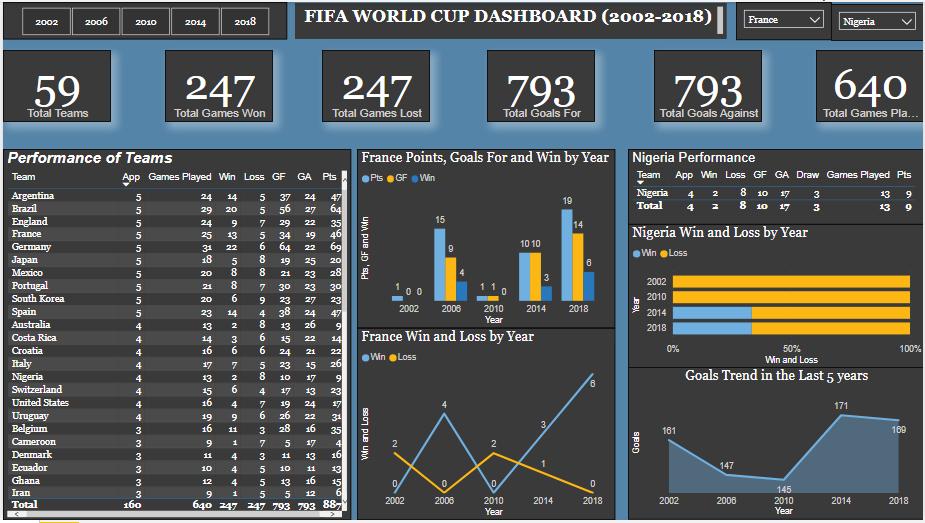

This screenshot's page, from the dashboard's own definition file:
{"tool":"powerbi","page":{"name":"Page 1","canvas":[1280,720],"ordinal":0},"visuals":[{"type":"card","fields":{"Values":["Calculations.NO OF TEAMS"]},"box":[0,66.1,150,100.5],"z":0},{"type":"card","fields":{"Values":["Calculations.TOTAL GAMES PLAYED"]},"box":[1130,66.1,150,100.5],"z":1000},{"type":"card","fields":{"Values":["Calculations.TOTAL GAMES WON"]},"box":[225.7,66.1,150,100.5],"z":2000},{"type":"card","fields":{"Values":["Calculations.TOTAL GOALS AGAINST"]},"box":[904.3,66.1,150,100.5],"z":3000},{"type":"card","fields":{"Values":["Calculations.TOTAL GAMES LOST"]},"box":[443.2,66.1,150,100.5],"z":4000},{"type":"card","fields":{"Values":["Calculations.TOTAL GAMES GOALS FOR"]},"box":[673,66.1,150,100.5],"z":5000},{"type":"slicer","fields":{"Values":["FIFA-5YRS.Date"]},"box":[0,0,395,52.3],"z":6000},{"type":"tableEx","title":"Performance of Teams","fields":{"Values":["FIFA-5YRS.Team","Calculations.Apperance","Sum(FIFA-5YRS.Games Played)","Sum(FIFA-5YRS.Win)","Sum(FIFA-5YRS.Loss)","Sum(FIFA-5YRS.Goals For)","Sum(FIFA-5YRS.Goals Against)","Sum(FIFA-5YRS.Points)"]},"box":[0,203.6,483.5,516.4],"z":7000},{"type":"areaChart","title":"Goals Trend in the Last 5 years","fields":{"Category":["FIFA-5YRS.Year"],"Y":["Sum(FIFA-5YRS.Goals For)"]},"box":[868.5,507.9,411.5,212],"z":8000},{"type":"clusteredColumnChart","title":"France Points, Goals For and Win by Year","fields":{"Y":["Sum(FIFA-5YRS.Points)","Sum(FIFA-5YRS.Goals For)","Sum(FIFA-5YRS.Win)"],"Category":["FIFA-5YRS.Year"]},"box":[492.7,203.7,359.2,249.1],"z":9000},{"type":"slicer","fields":{"Values":["FIFA-5YRS.Team"]},"box":[1018.2,0,132.7,52.6],"z":10000},{"type":"lineChart","title":"France Win and Loss by Year","fields":{"Category":["FIFA-5YRS.Year"],"Y":["Sum(FIFA-5YRS.Win)","Sum(FIFA-5YRS.Loss)"]},"box":[492.7,452.8,359.2,267],"z":11000},{"type":"tableEx","title":"Nigeria Performance","fields":{"Values":["FIFA-5YRS.Team","Calculations.App","Sum(FIFA-5YRS.Win)","Sum(FIFA-5YRS.Loss)","Sum(FIFA-5YRS.GF)","Sum(FIFA-5YRS.GA)","Sum(FIFA-5YRS.Draw)","Sum(FIFA-5YRS.Games Played)","Sum(FIFA-5YRS.Pts)"]},"box":[868.5,203.7,411.5,104.6],"z":12000},{"type":"slicer","fields":{"Values":["FIFA-5YRS.Team"]},"box":[1150.9,2.6,128.8,51.2],"z":13000},{"type":"hundredPercentStackedBarChart","title":"Nigeria Win and Loss by Year","fields":{"Category":["FIFA-5YRS.Year"],"Y":["Sum(FIFA-5YRS.Win)","Sum(FIFA-5YRS.Loss)"]},"box":[868.5,308.3,411.5,199.6],"z":14000},{"type":"textbox","box":[406,1.3,600.4,49.9],"z":15000}]}

Visuals, with their boxes in screenshot pixels (x1, y1, x2, y2), scaled from the page's 1280x720 canvas onto the 925x523 screenshot:
card - Calculations.NO OF TEAMS: (0, 48, 108, 121)
card - Calculations.TOTAL GAMES PLAYED: (817, 48, 924, 121)
card - Calculations.TOTAL GAMES WON: (163, 48, 272, 121)
card - Calculations.TOTAL GOALS AGAINST: (653, 48, 762, 121)
card - Calculations.TOTAL GAMES LOST: (320, 48, 429, 121)
card - Calculations.TOTAL GAMES GOALS FOR: (486, 48, 595, 121)
slicer - FIFA-5YRS.Date: (0, 0, 285, 38)
"Performance of Teams" tableEx: (0, 148, 349, 522)
"Goals Trend in the Last 5 years" areaChart: (628, 369, 924, 522)
"France Points, Goals For and Win by Year" clusteredColumnChart: (356, 148, 616, 329)
slicer - FIFA-5YRS.Team: (736, 0, 832, 38)
"France Win and Loss by Year" lineChart: (356, 329, 616, 522)
"Nigeria Performance" tableEx: (628, 148, 924, 224)
slicer - FIFA-5YRS.Team: (832, 2, 924, 39)
"Nigeria Win and Loss by Year" hundredPercentStackedBarChart: (628, 224, 924, 369)
textbox: (293, 1, 727, 37)
